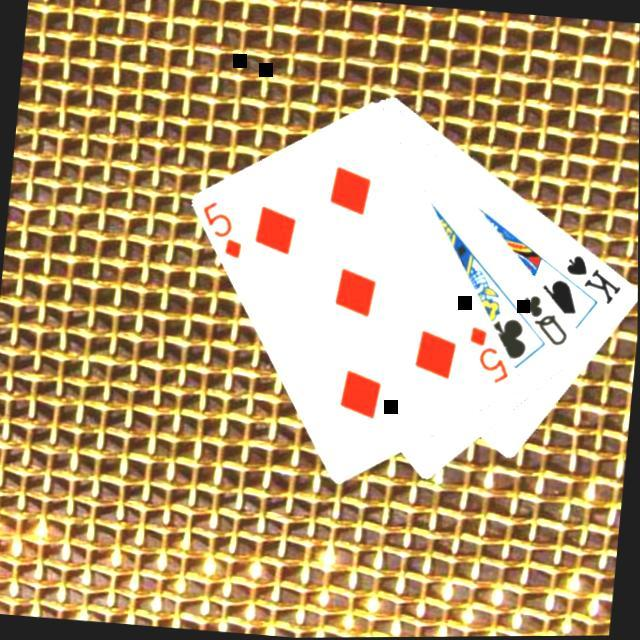5D: (195, 197, 250, 264), (463, 323, 517, 389)
KS: (560, 251, 628, 310)
QC: (514, 291, 576, 353)
